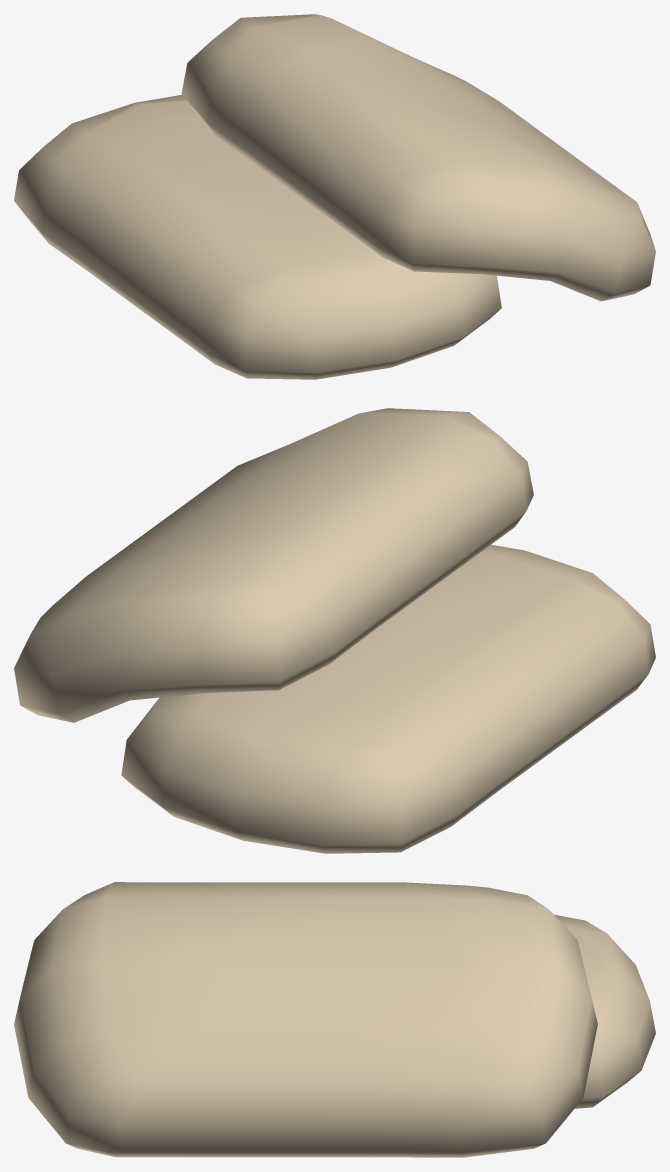
The model's file is quaternius-sushi-restaurant-foodingredient-fishfillet.glb.
3 renders of one model, top to bottom at view 1: azimuth 30°, elevation 25°; view 2: azimuth 150°, elevation 25°; view 3: azimuth 270°, elevation 25°, orthographic. The views are drawn at different scales.
Parts seen in each view (by area): view 1: FoodIngredient_FishFillet; view 2: FoodIngredient_FishFillet; view 3: FoodIngredient_FishFillet.
Part boxes in pixels (bbox=[...]): FoodIngredient_FishFillet: bbox=[14, 14, 655, 379]; FoodIngredient_FishFillet: bbox=[14, 408, 655, 853]; FoodIngredient_FishFillet: bbox=[14, 882, 655, 1157].
Bounding box in the file's own units: 0.6623 × 0.2796 × 0.8608.
Materials: 1 (1 with a texture image).
